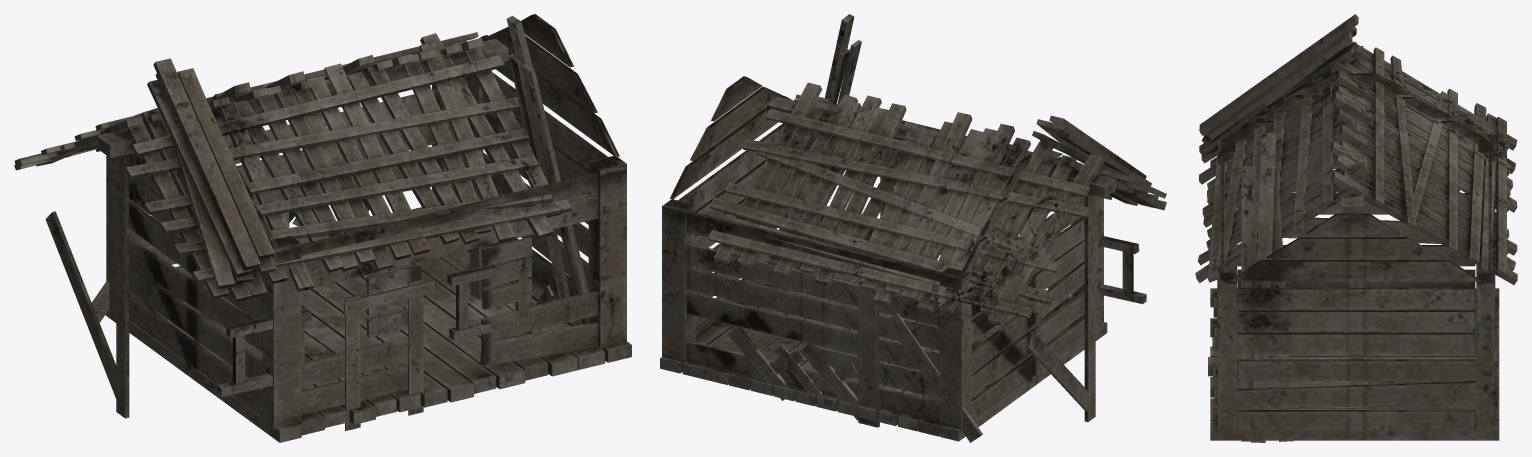
File: old-house.glb
The picture shows the model from 3 angles, left to right: view 1: azimuth 30°, elevation 25°; view 2: azimuth 150°, elevation 25°; view 3: azimuth 270°, elevation 25°; orthographic projection. The views are drawn at different scales.
Parts seen in each view (by area): view 1: Object_4, Object_10; view 2: Object_4, Object_10; view 3: Object_10, Object_4.
Part boxes in pixels (x1=…): Object_4: x1=14, y1=16, x2=588, y2=430; Object_10: x1=105, y1=14, x2=631, y2=442; Object_4: x1=700, y1=14, x2=1166, y2=442; Object_10: x1=660, y1=76, x2=1107, y2=441; Object_10: x1=1208, y1=73, x2=1499, y2=440; Object_4: x1=1195, y1=14, x2=1517, y2=442.
Size of the model in its own units: 10.39 by 7.76 by 7.79.
Materials: 2 (2 with a texture image).
